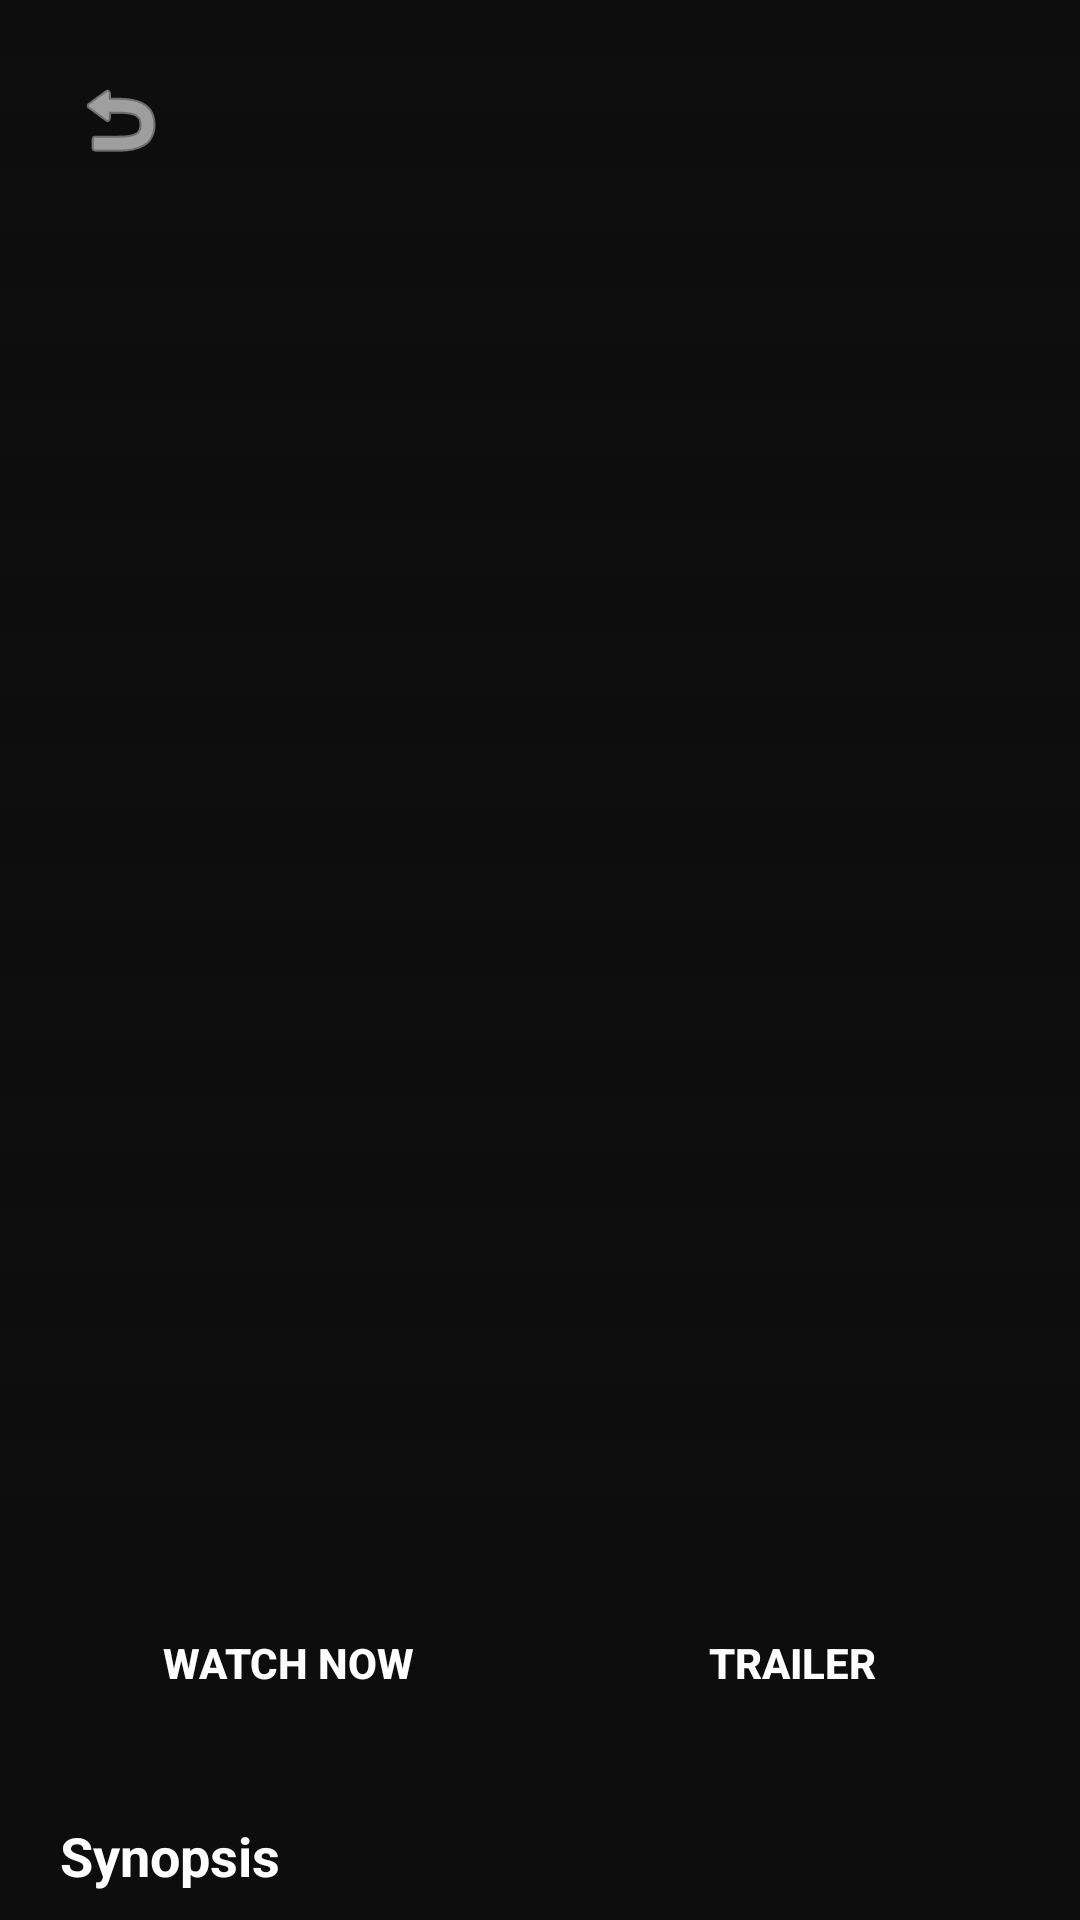

Icons on this 1080w x 1920h Android screen, each with the point to tap as (x,y):
revert: (121,120)
